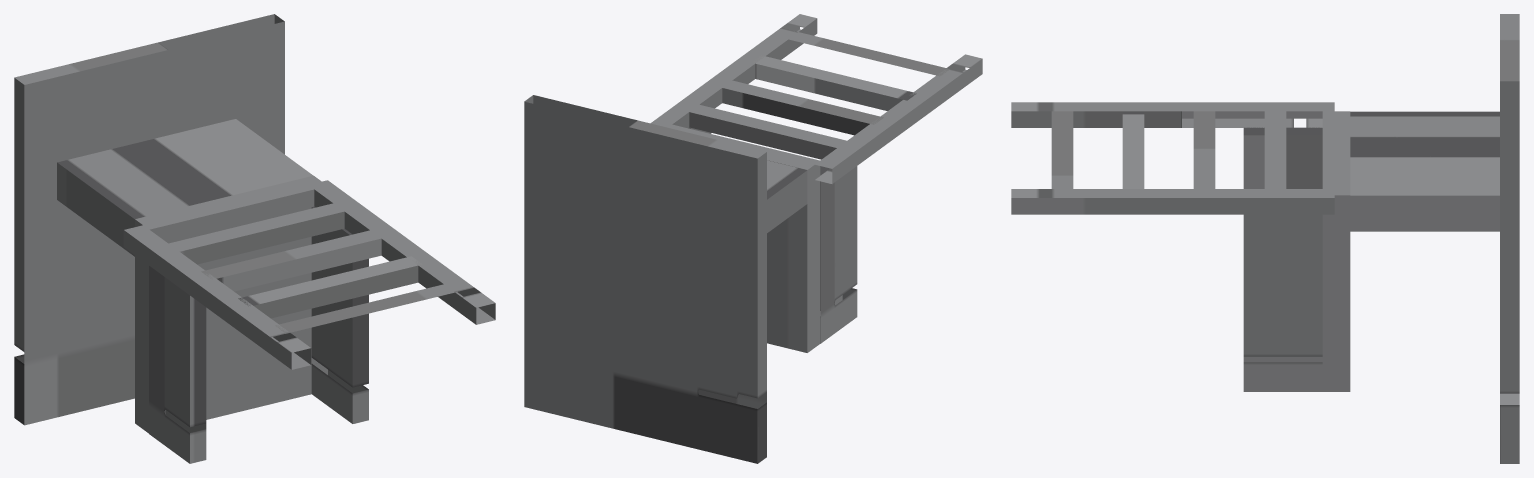
3 renders of one model, left to right at view 1: azimuth 30°, elevation 25°; view 2: azimuth 150°, elevation 25°; view 3: azimuth 270°, elevation 25°, orthographic. The views are drawn at different scales.
Bounding box in the file's own units: 0.734 × 0.917 × 1.29.
